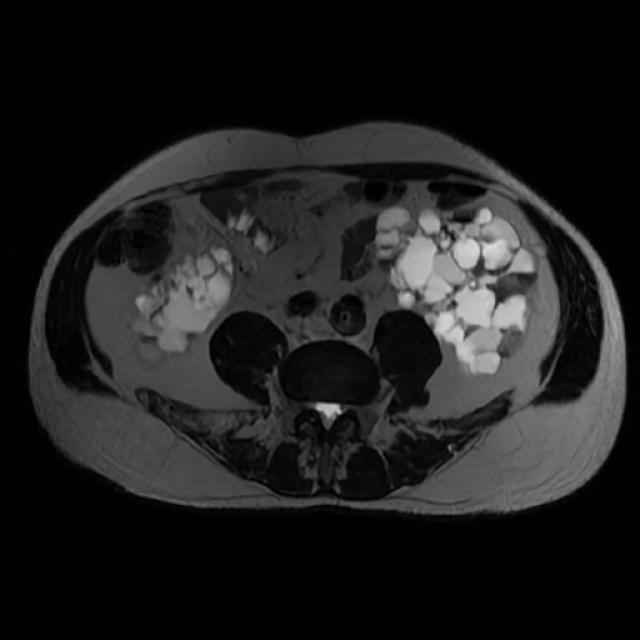sag: (131, 246, 236, 364)
sol: (371, 204, 538, 377)
